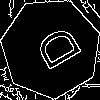D: (26, 23, 83, 78)
